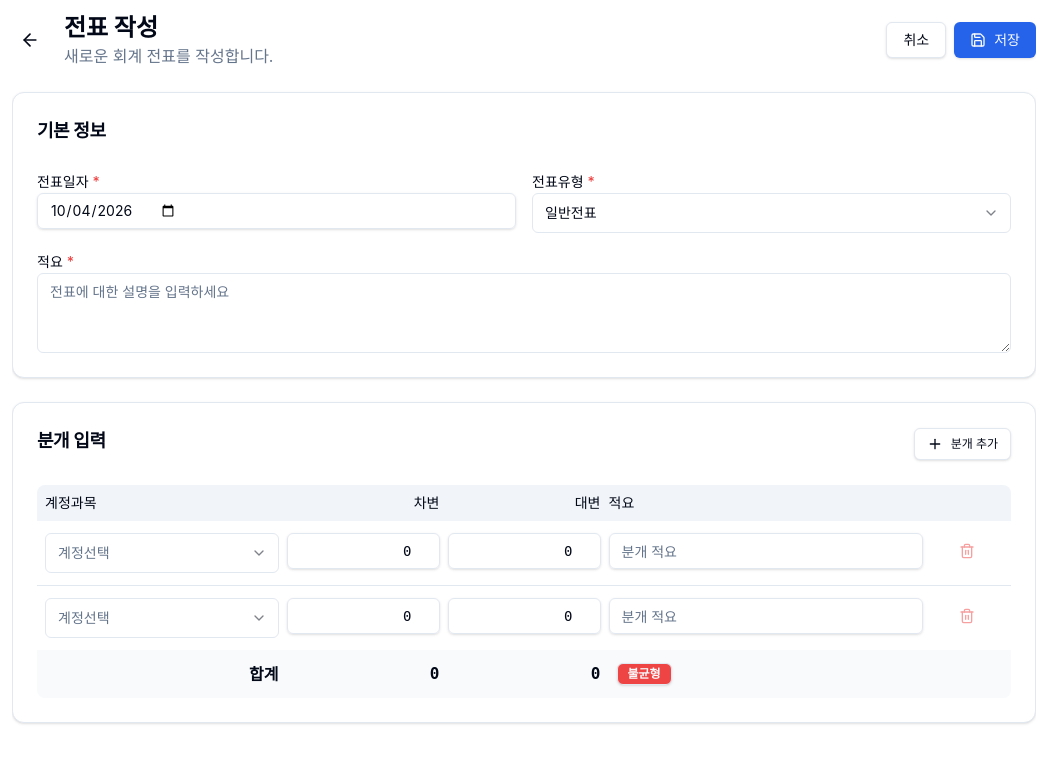
Test: VoucherFormPage › form validation › should show error for missing account code
The image size is (1048, 780).
Type "Test voucher" into the text box labelled "적요*". click: (524, 313)
box: top-left (37, 273), bottom-right (1011, 353)
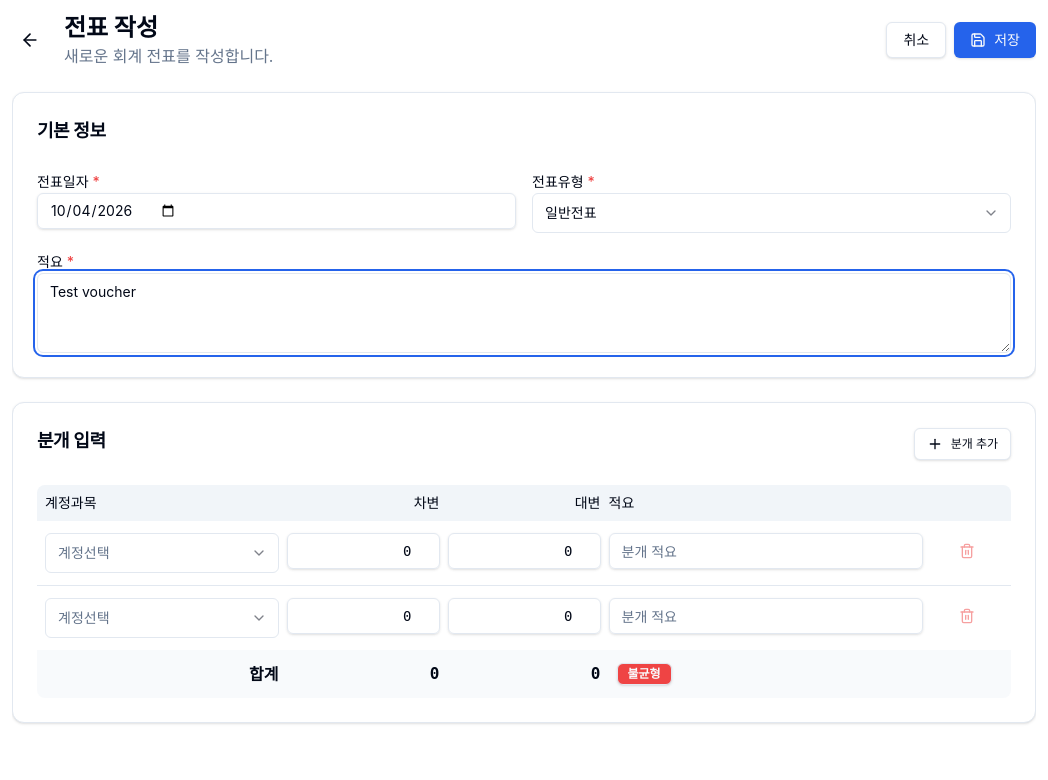
// Don't select account codes, just enter amounts
Type "10000" into the 1st number field. click: (363, 551)
box: top-left (286, 533), bottom-right (440, 569)
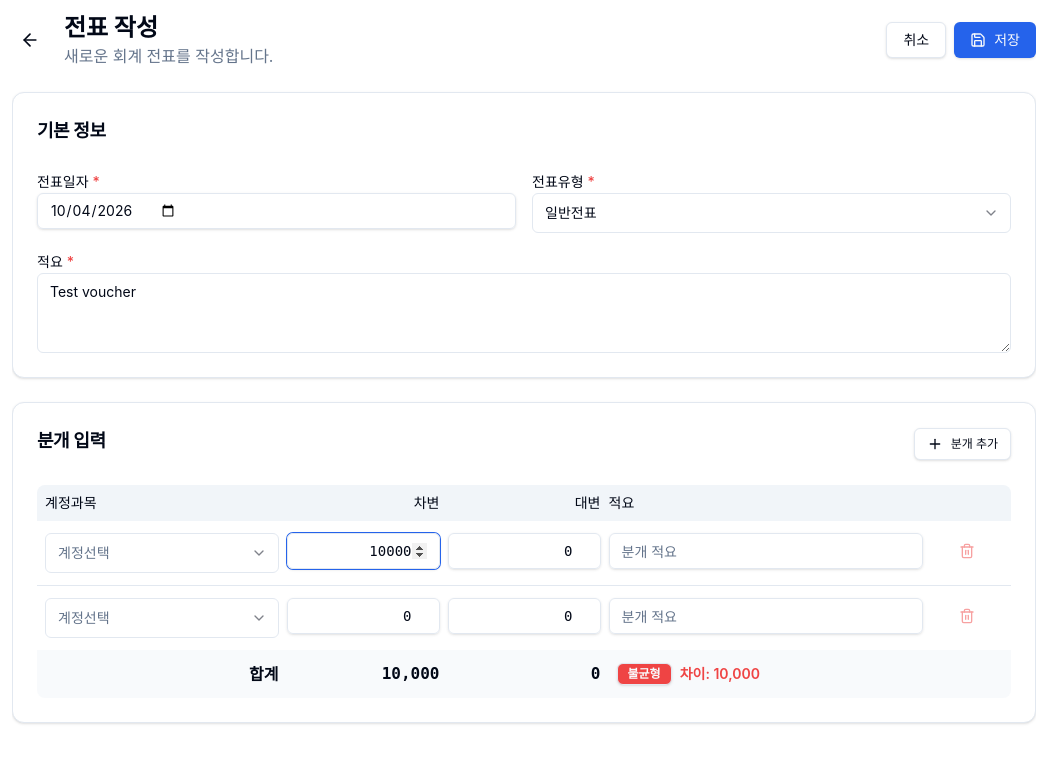
Type "10000" into the 4th number field. click: (524, 616)
box: top-left (448, 598), bottom-right (600, 634)
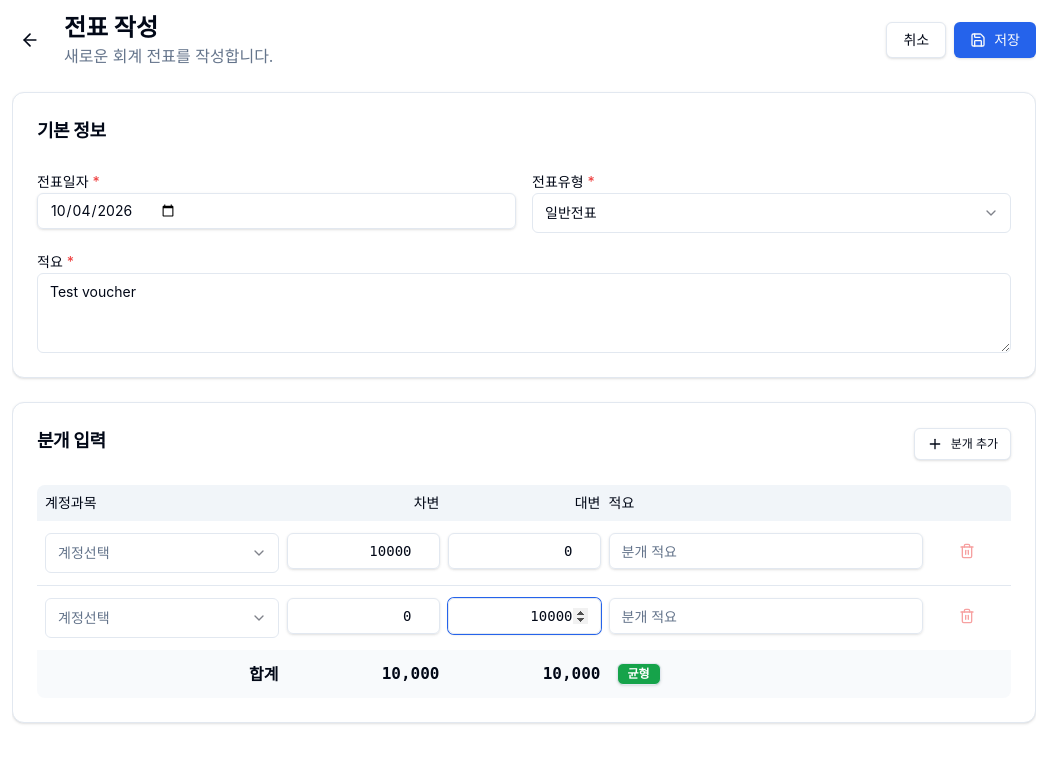
Click the button "저장". click: (995, 40)
box: top-left (954, 22), bottom-right (1036, 58)
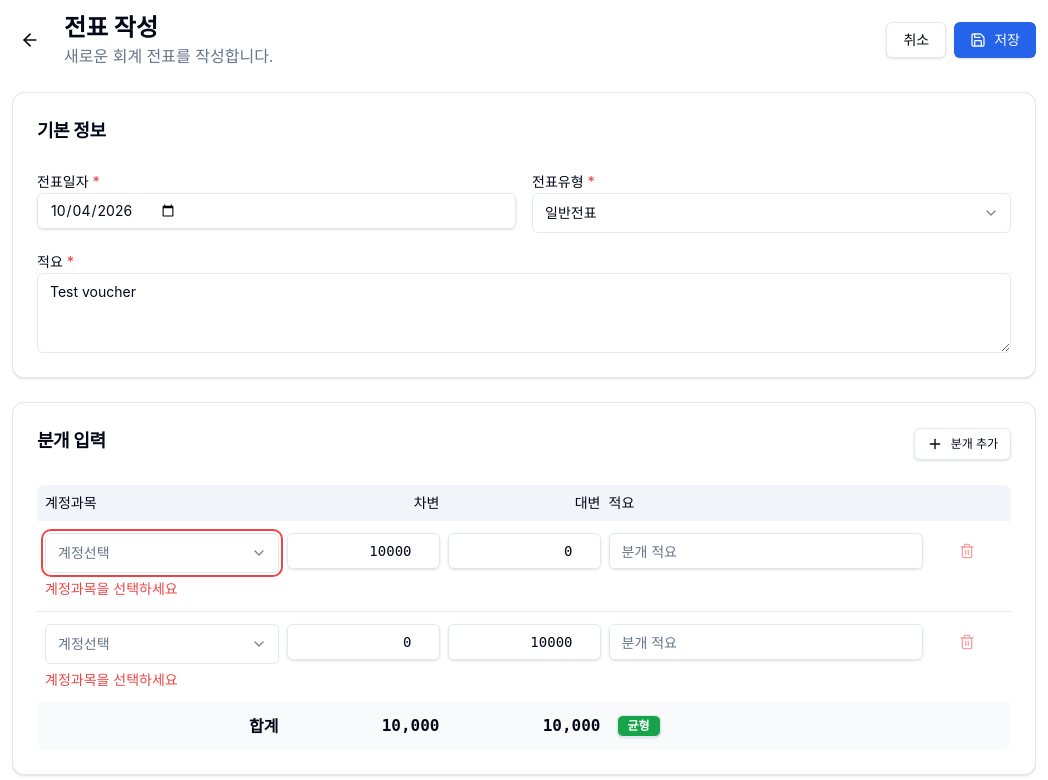
Expected: the 1st text "계정과목을 선택하세요" is shown, top-left (45, 580), bottom-right (178, 597)
